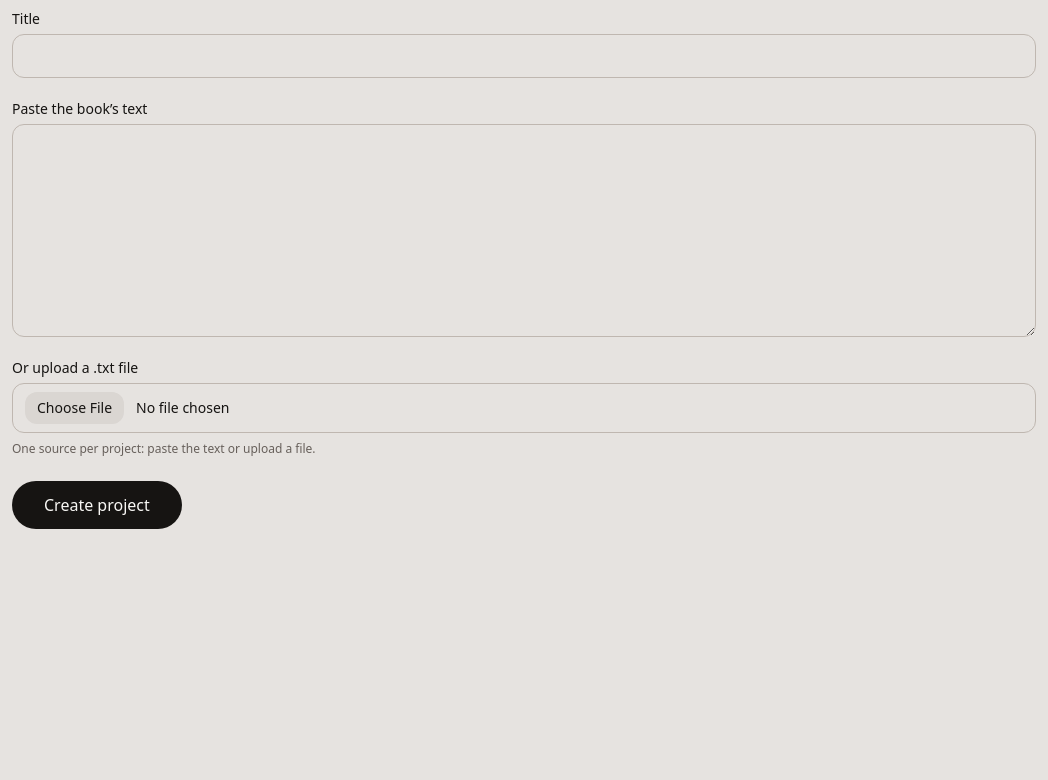
Test: NewProjectForm › requires a title
This screenshot has width=1048, height=780.
Step 1. Type "Once upon a time" into the text box labelled "Paste the book’s text" → (524, 230), box [12, 124, 1036, 337]
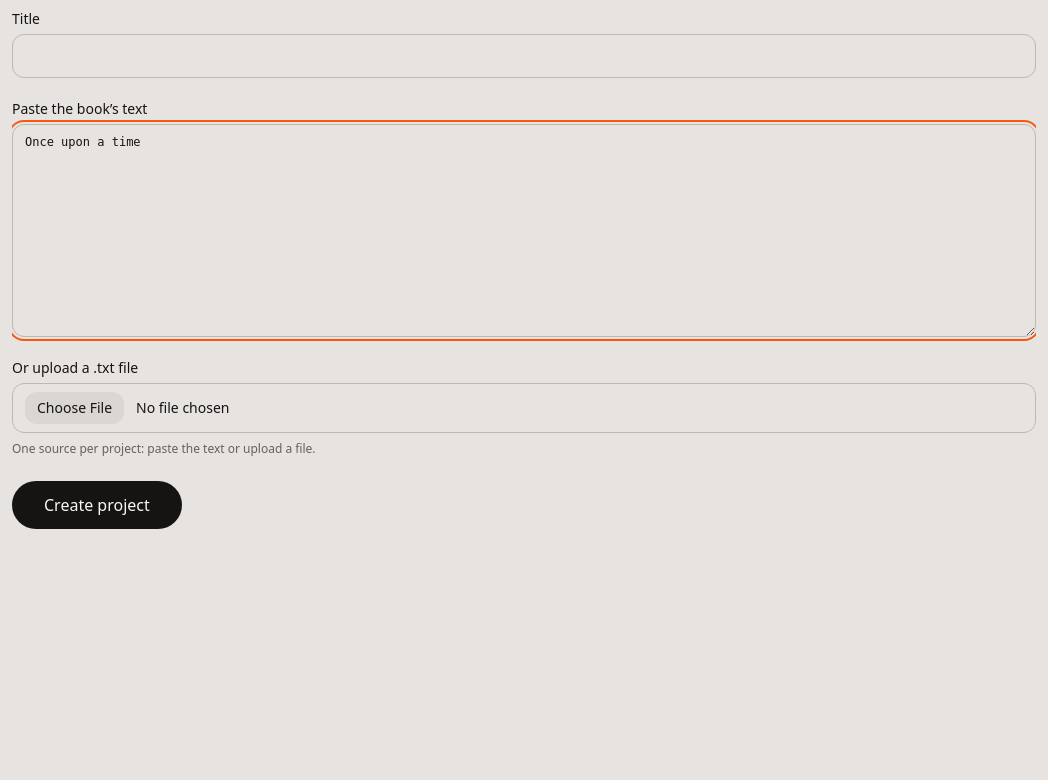
Step 2. Click the button "Create project" → (97, 505), box [12, 481, 182, 529]
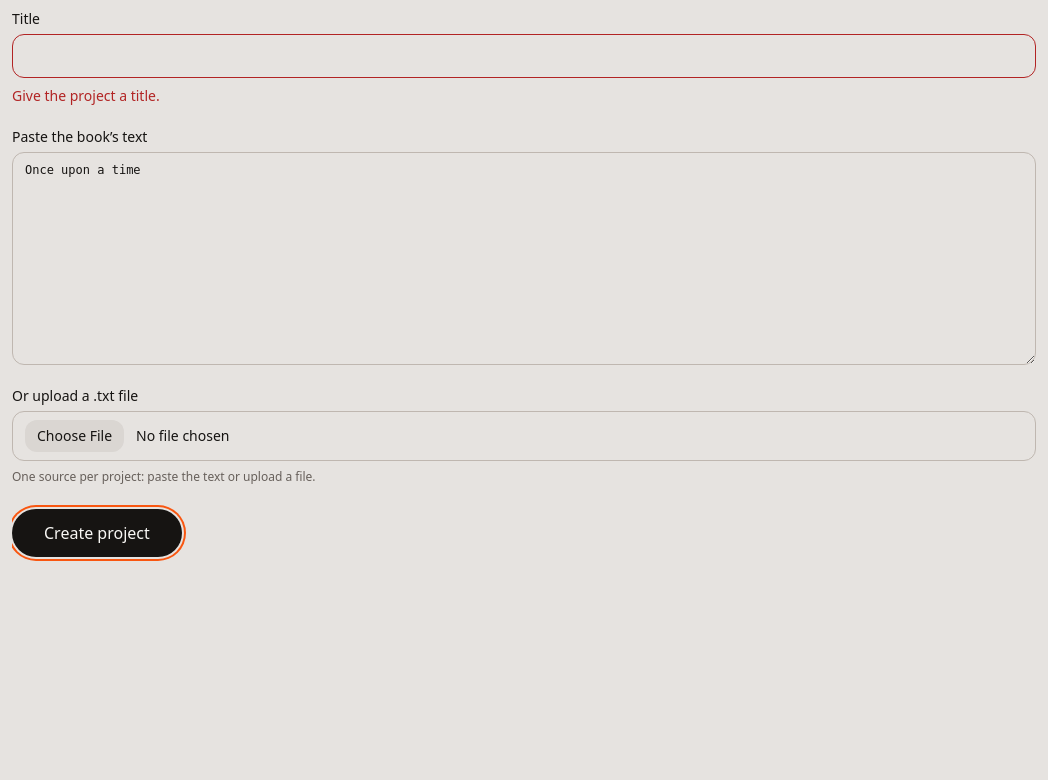
Check: the text "Give the project a title." is shown, box [12, 86, 160, 105]
